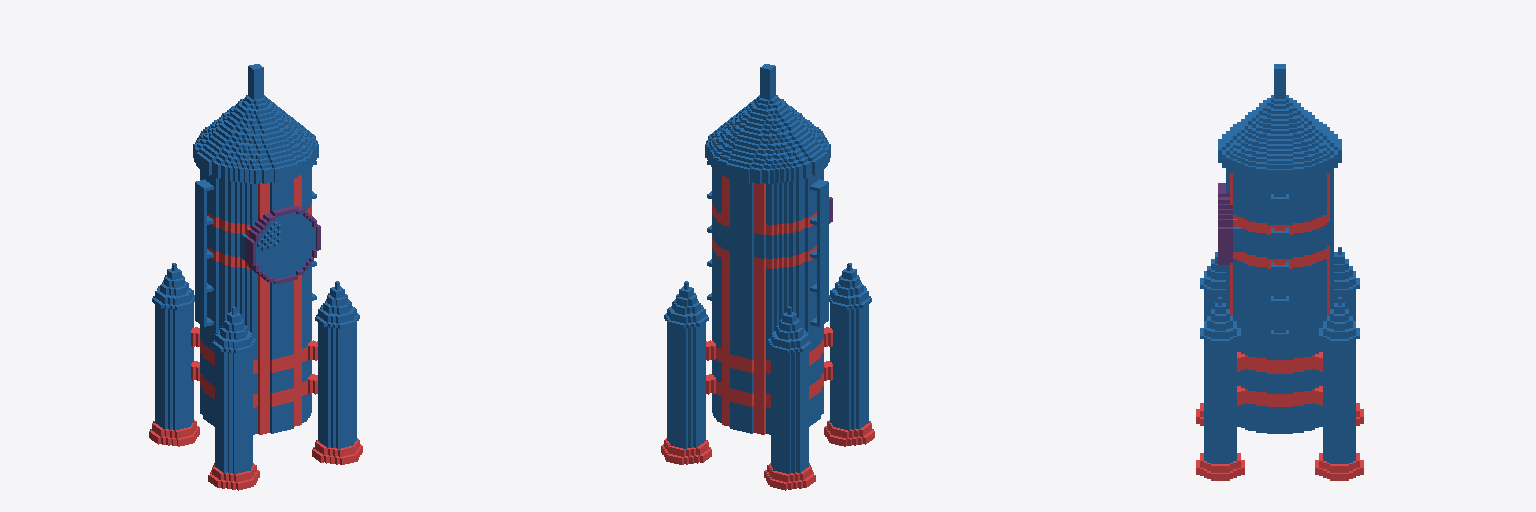
3 views of the same model, side by side, from view 1: azimuth 30°, elevation 25°; view 2: azimuth 150°, elevation 25°; view 3: azimuth 270°, elevation 25° (orthographic).
Visible parts, largest first — view 1: object 1; view 2: object 1; view 3: object 1.
Part boxes in pixels (left/top/right/bottom): object 1: left=149, top=64, right=362, bottom=490; object 1: left=661, top=64, right=874, bottom=490; object 1: left=1196, top=64, right=1363, bottom=480.
Size of the model in its own units: 4.5 by 11.2 by 4.5.
Materials: 1 (1 with a texture image).